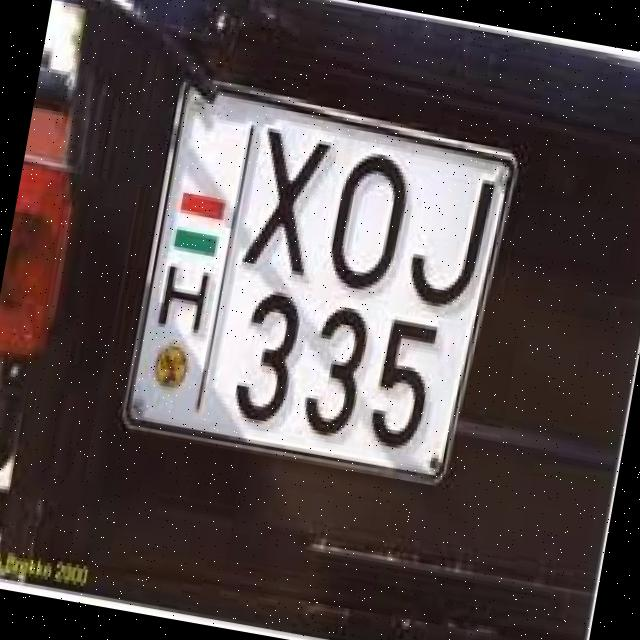licence: (119, 71, 517, 492)
